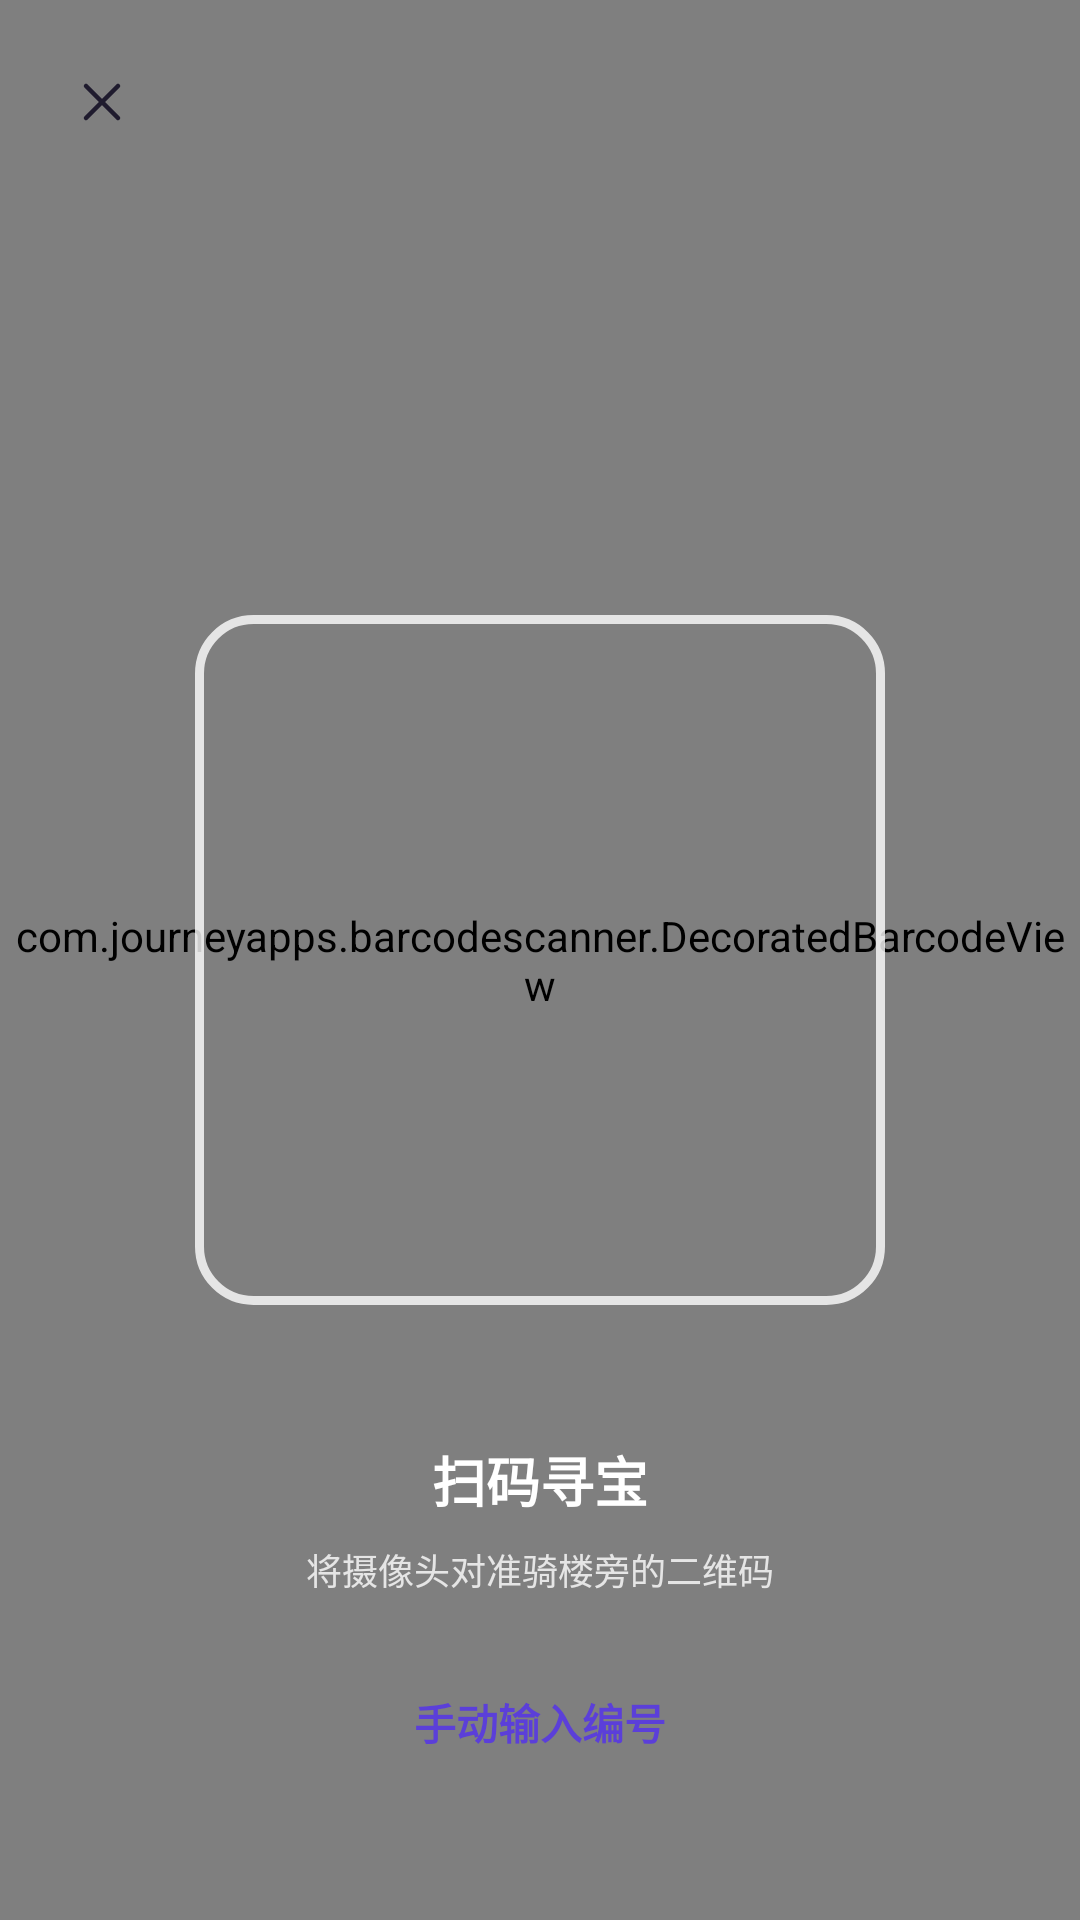

Icons on this 1080px×1920px Android screen, each with its box as (left=x1, top=y1, right=x2, bottom=y2):
返回: (left=84, top=84, right=120, bottom=121)
